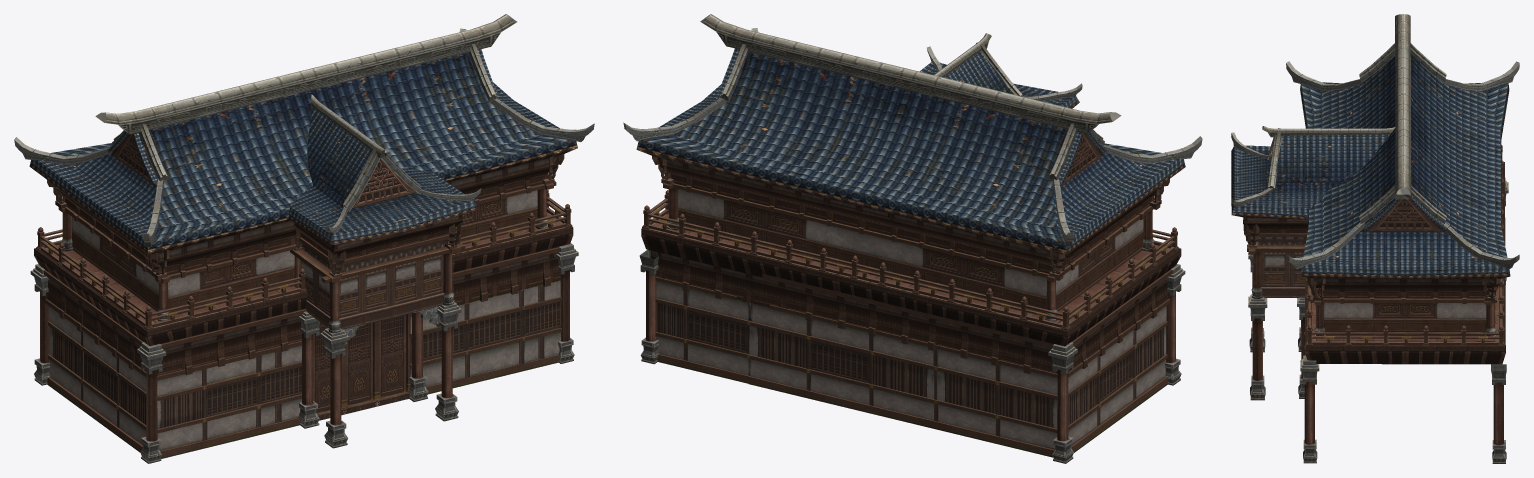
The model's file is Item_3002_jianzhu_02.FBX.
3 renders of one model, left to right at view 1: azimuth 30°, elevation 25°; view 2: azimuth 150°, elevation 25°; view 3: azimuth 270°, elevation 25°, orthographic. The views are drawn at different scales.
Visible parts, largest first — view 1: Item_3002_jianzhu_02; view 2: Item_3002_jianzhu_02; view 3: Item_3002_jianzhu_02.
Part boxes in pixels (left/top/right/bottom): Item_3002_jianzhu_02: left=14, top=14, right=594, bottom=463; Item_3002_jianzhu_02: left=623, top=14, right=1202, bottom=463; Item_3002_jianzhu_02: left=1231, top=14, right=1519, bottom=463.
Size of the model in its own units: 1404 by 914 by 878.
